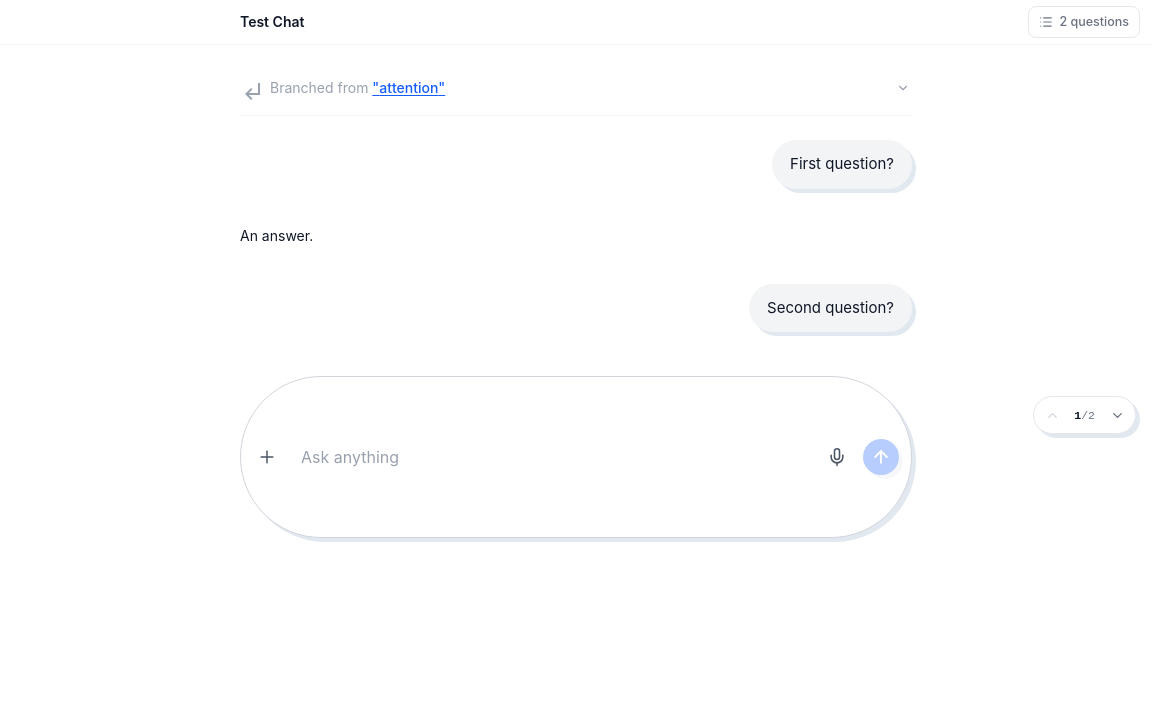
Test: ChatArea-Integration › funktioniert auch in Kind-Chats (Branch mit parent_word)
The image size is (1152, 720).
Expected: the element with test id "question-stepper" is shown, x1=1033 y1=396 x2=1136 y2=434
Click the button with test id "question-nav-button" at (1084, 22), box x1=1028 y1=6 x2=1140 y2=38
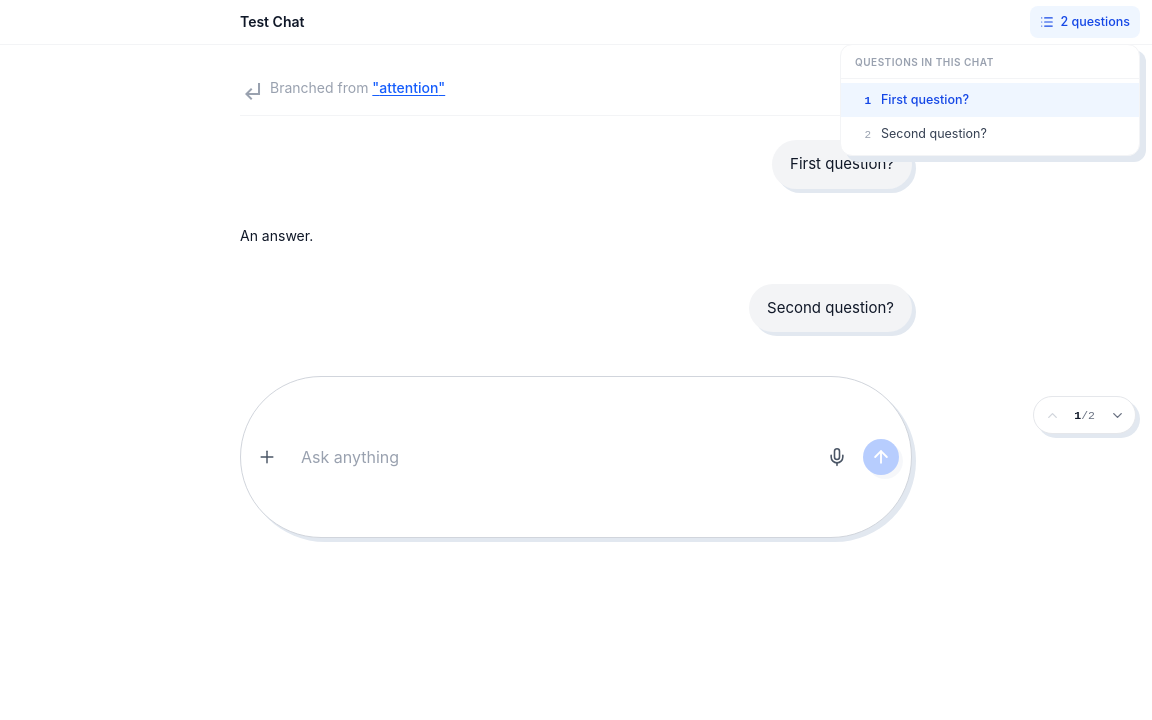
Now the menu with test id "question-nav-popover" shows "First question?", box x1=841 y1=83 x2=1139 y2=117
